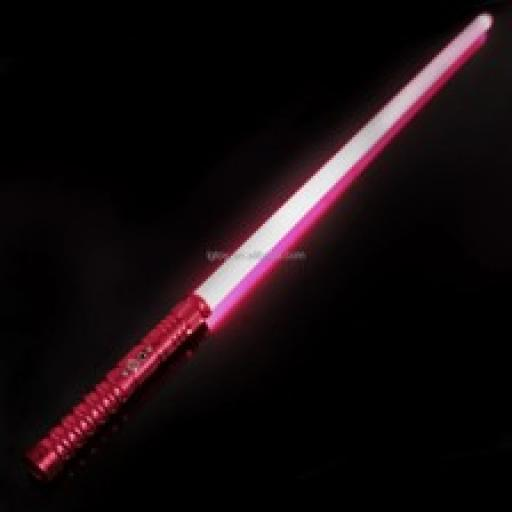sith saber: (34, 15, 491, 466)
